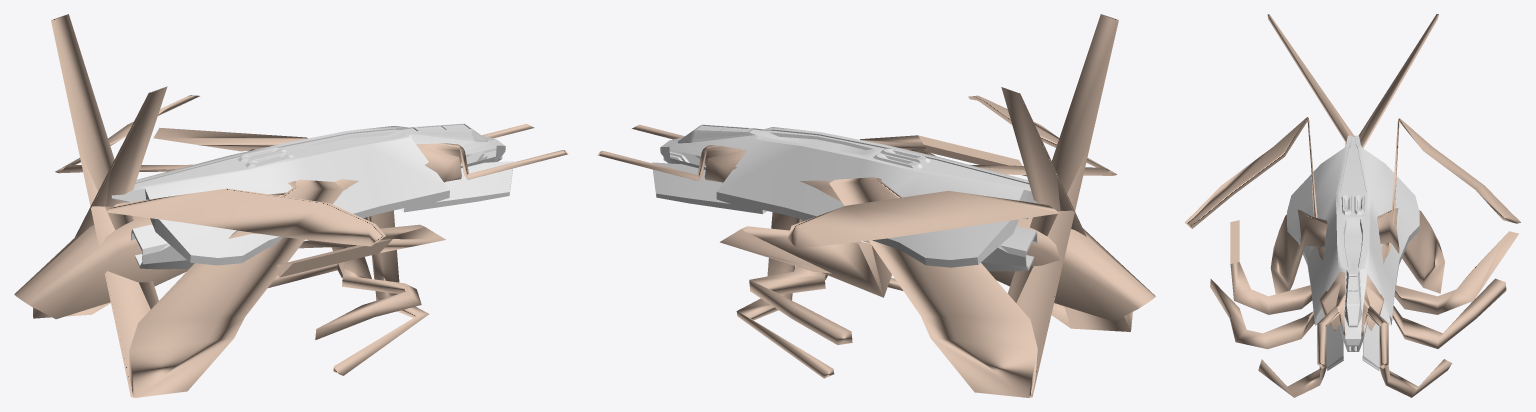
Rendered from Nemesis.fbx.
3 views of the same model, side by side, from view 1: azimuth 30°, elevation 25°; view 2: azimuth 150°, elevation 25°; view 3: azimuth 270°, elevation 25° (orthographic). The views are drawn at different scales.
Parts seen in each view (by area): view 1: Nemesis1; view 2: Nemesis1; view 3: Nemesis1.
Boxes of the visible parts, x1,y1,x2,y2 form: Nemesis1: (14,14,568,397); Nemesis1: (597,14,1155,397); Nemesis1: (1184,14,1520,397).
Size of the model in its own units: 7.12 by 4.17 by 4.55.
